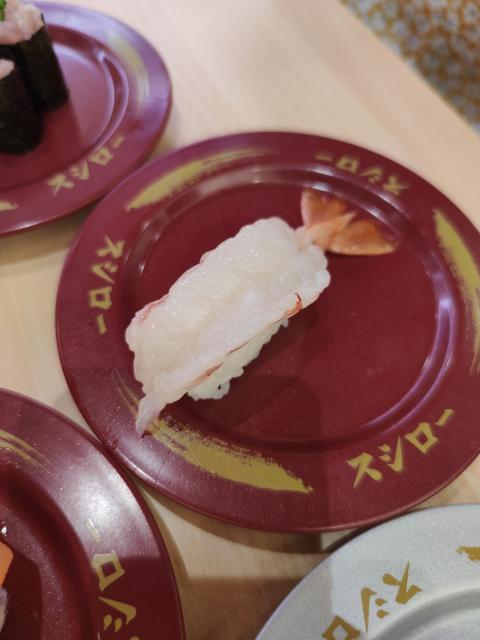janred: (62, 98, 480, 514), (0, 385, 199, 640), (0, 0, 157, 232)
janwhite: (241, 480, 480, 640)
